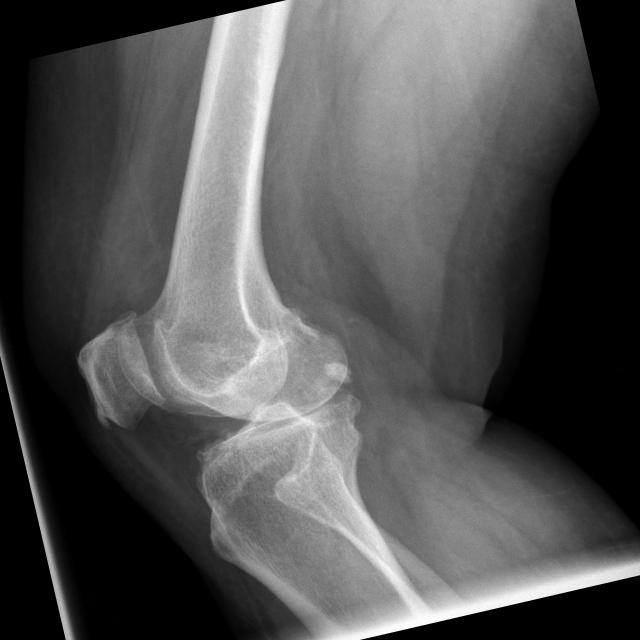Knee: (66, 265, 380, 554)
